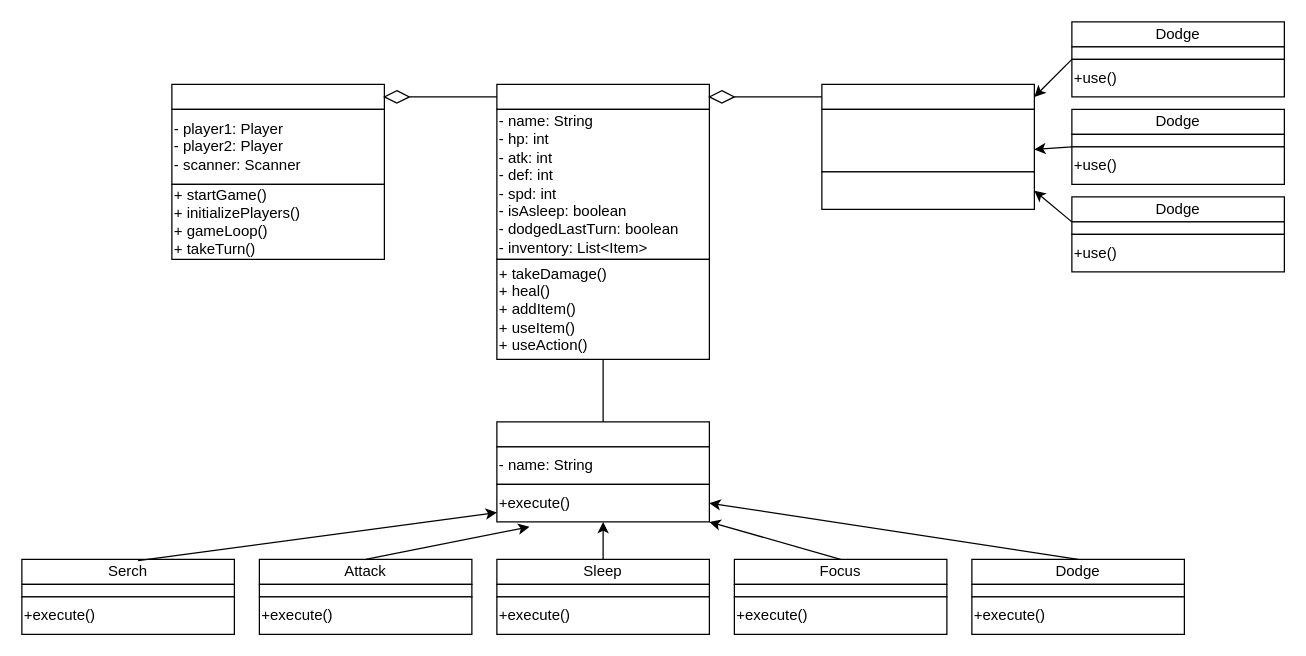
The diagram is 1306 pixels wide and 656 high, and some of its shapes have lost their labels. The centre of each missing label's shape, as x and y in pixels:
"+ use() + decreaseUsage()" belongs at (927,190).
"- name: String - reusable: boolean - usageLimit: int" belongs at (927,140).
"Action" belongs at (602,434).
"Domination" belongs at (277,96).
"Item" belongs at (927,96).
"Player" belongs at (602,96).
